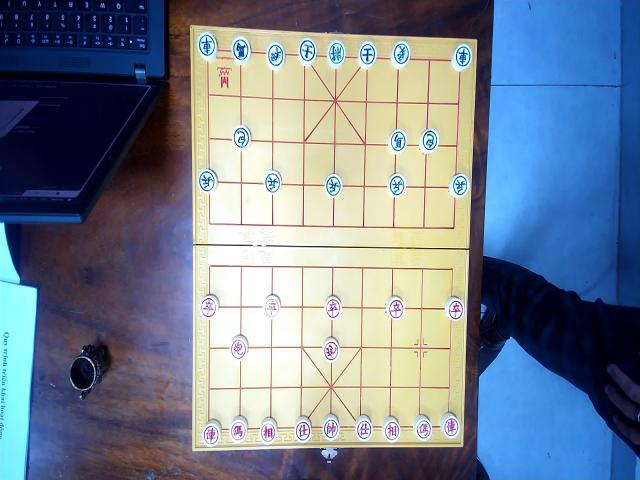piece: (451, 43, 473, 72), (196, 31, 218, 60), (231, 35, 251, 65), (448, 172, 470, 199), (326, 39, 346, 68), (390, 41, 410, 69), (440, 412, 460, 440), (202, 420, 222, 447), (358, 41, 378, 68), (298, 38, 317, 66), (266, 41, 285, 69), (197, 168, 217, 194), (444, 296, 464, 322), (412, 415, 432, 441), (387, 128, 407, 154), (200, 294, 220, 320), (382, 415, 401, 442), (229, 416, 248, 443), (419, 128, 439, 153), (354, 415, 373, 441), (322, 414, 340, 441), (294, 416, 312, 443), (387, 172, 406, 197), (259, 418, 277, 444), (232, 124, 250, 150), (322, 336, 340, 362), (230, 334, 248, 360), (386, 295, 404, 320), (324, 172, 342, 197), (324, 295, 342, 320), (263, 170, 281, 194), (264, 294, 280, 318)
